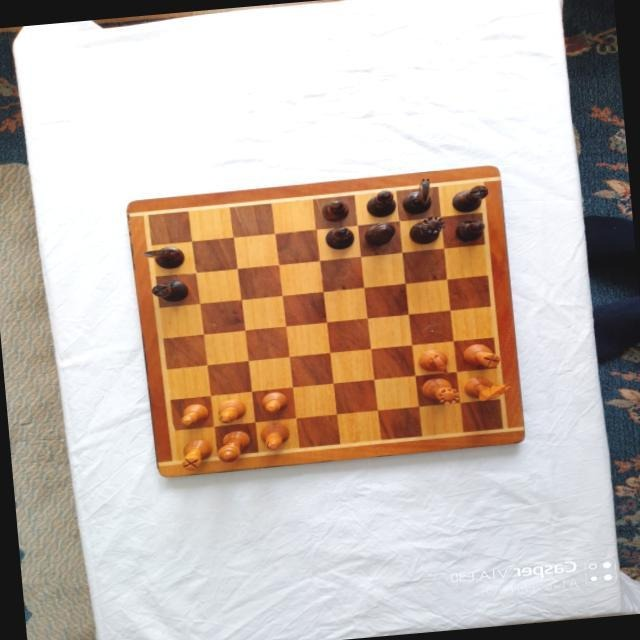black-bishop: (365, 187, 397, 217), (323, 222, 355, 249)
black-king: (361, 220, 396, 247)
black-knight: (399, 175, 433, 214), (140, 242, 184, 270)
black-pawn: (452, 216, 486, 241), (318, 197, 350, 222)
black-queen: (406, 213, 446, 244)
black-rook: (449, 182, 491, 213), (150, 276, 190, 303)
white-bishop: (258, 420, 290, 449), (216, 396, 248, 424)
white-king: (214, 428, 253, 463)
white-knight: (460, 371, 511, 401), (414, 344, 449, 375)
white-pawn: (178, 401, 210, 426), (259, 390, 289, 414)
white-queen: (419, 374, 461, 405)
white-rook: (461, 339, 501, 368), (179, 437, 213, 470)
